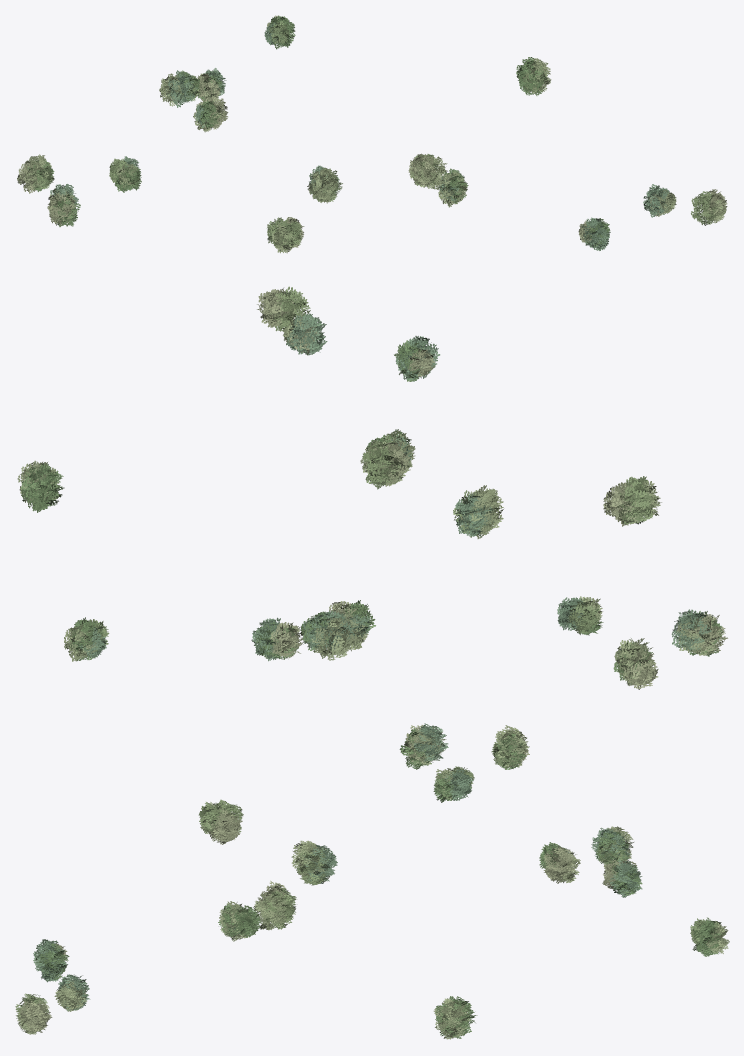
The model's file is campus-tree--1_-2-near.glb.
The picture shows the model from 3 angles, top to bottom: view 1: azimuth 30°, elevation 25°; view 2: azimuth 150°, elevation 25°; view 3: azimuth 270°, elevation 25°; orthographic projection. The views are drawn at different scales.
Visible parts, largest first — view 1: Campus leaf canopy; view 2: Campus leaf canopy; view 3: Campus leaf canopy.
Part boxes in pixels (<box>): Campus leaf canopy: <box>17,15,727,253</box>; Campus leaf canopy: <box>17,286,727,689</box>; Campus leaf canopy: <box>15,723,729,1039</box>.
Bounding box in the file's own units: 80.34 × 7.02 × 82.35.
Materials: 1 (1 with a texture image).
